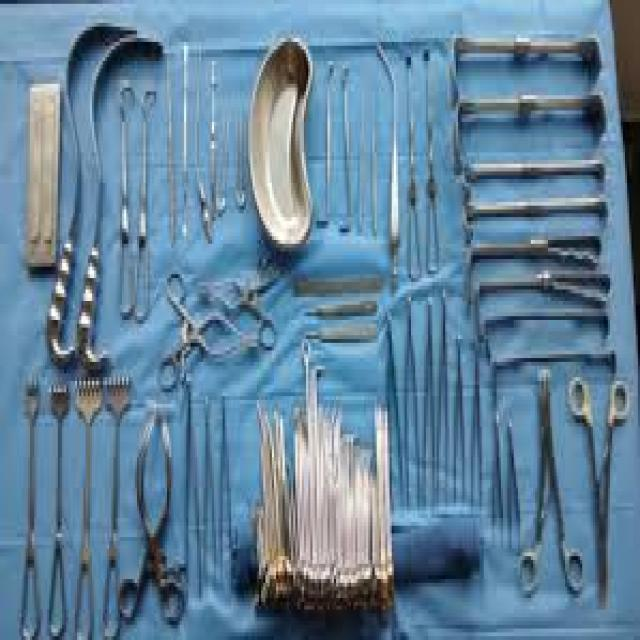tools_table: (1, 5, 640, 640)
